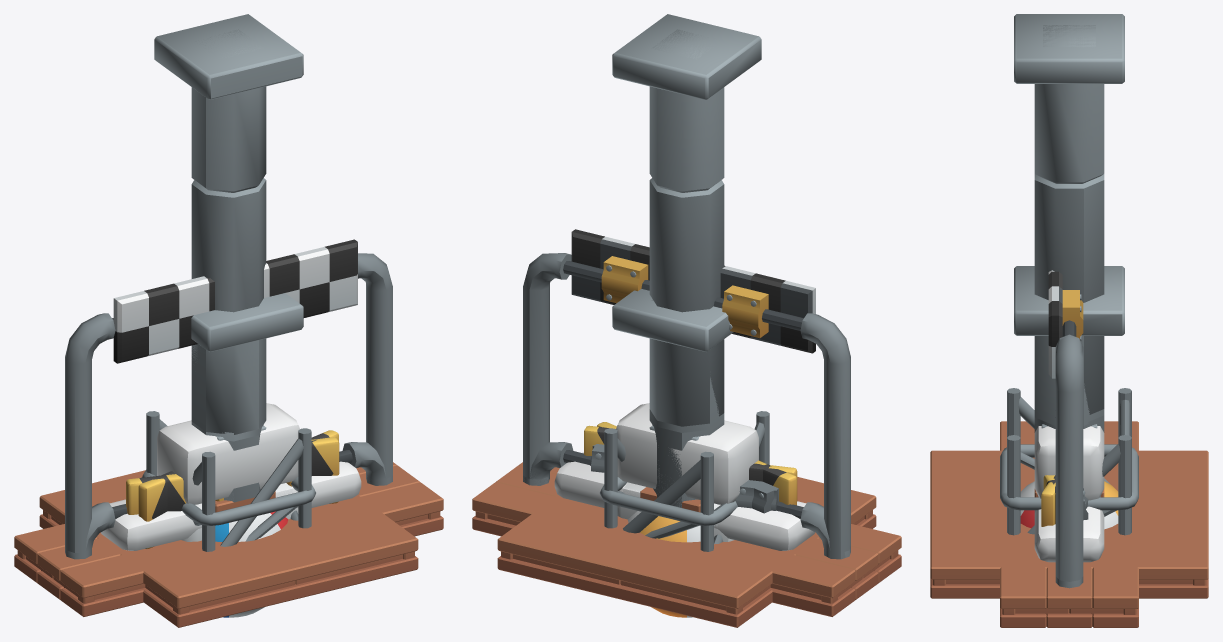
The model's file is world-sky.glb.
3 renders of one model, left to right at view 1: azimuth 30°, elevation 25°; view 2: azimuth 150°, elevation 25°; view 3: azimuth 270°, elevation 25°, orthographic.
Parts seen in each view (by area): view 1: pillar_2x2x8, floor_wood_4x4, floor_wood_2x6, signage_finish, signage_finish_board, pillar_2x2x4, barrier_2x1x2, structure_C, barrier_4x1x1, signage_arrows_right, structure_B, signage_arrows_left (+1 smaller); view 2: pillar_2x2x8, floor_wood_4x4, signage_finish, floor_wood_2x6, signage_finish_board, barrier_2x1x2, pillar_2x2x4, barrier_4x1x1, structure_C, signage_arrows_left, structure_B, signage_arrows_right (+2 smaller); view 3: pillar_2x2x8, floor_wood_4x4, floor_wood_2x6, signage_finish, pillar_2x2x4, structure_C, barrier_2x1x2, structure_B, signage_finish_board, barrier_4x1x1, pillar_1x1x8, floor_wood_2x2 (+3 smaller).
Boxes of the visible parts, <box> form: pillar_2x2x8: <box>154,14,303,501</box>; floor_wood_4x4: <box>39,470,418,627</box>; floor_wood_2x6: <box>14,462,443,616</box>; signage_finish: <box>65,253,392,555</box>; signage_finish_board: <box>113,239,357,363</box>; pillar_2x2x4: <box>191,293,303,502</box>; barrier_2x1x2: <box>157,403,299,541</box>; structure_C: <box>146,411,311,551</box>; barrier_4x1x1: <box>101,461,361,550</box>; signage_arrows_right: <box>66,437,386,559</box>; structure_B: <box>142,470,315,551</box>; signage_arrows_left: <box>85,430,392,558</box>; pillar_2x2x8: <box>612,14,761,507</box>; floor_wood_4x4: <box>497,477,876,627</box>; signage_finish: <box>523,253,850,559</box>; floor_wood_2x6: <box>472,462,901,616</box>; signage_finish_board: <box>571,229,815,353</box>; barrier_2x1x2: <box>616,403,758,541</box>; pillar_2x2x4: <box>612,289,733,507</box>; barrier_4x1x1: <box>554,452,814,550</box>; structure_C: <box>604,411,769,551</box>; signage_arrows_left: <box>523,425,830,558</box>; structure_B: <box>600,477,737,550</box>; signage_arrows_right: <box>529,422,850,557</box>; pillar_2x2x8: <box>1014,14,1124,432</box>; floor_wood_4x4: <box>930,450,1208,598</box>; floor_wood_2x6: <box>1000,421,1138,627</box>; signage_finish: <box>1055,320,1083,581</box>; pillar_2x2x4: <box>1014,266,1124,432</box>; structure_C: <box>1007,388,1131,535</box>; barrier_2x1x2: <box>1034,426,1104,512</box>; structure_B: <box>1000,444,1138,534</box>; signage_finish_board: <box>1048,270,1083,378</box>; barrier_4x1x1: <box>1034,506,1104,562</box>; pillar_1x1x8: <box>1043,25,1095,47</box>; floor_wood_2x2: <box>1001,480,1137,537</box>.
Bounding box in the file's own units: 6 × 9 × 4.
1 material, 1 textured.
